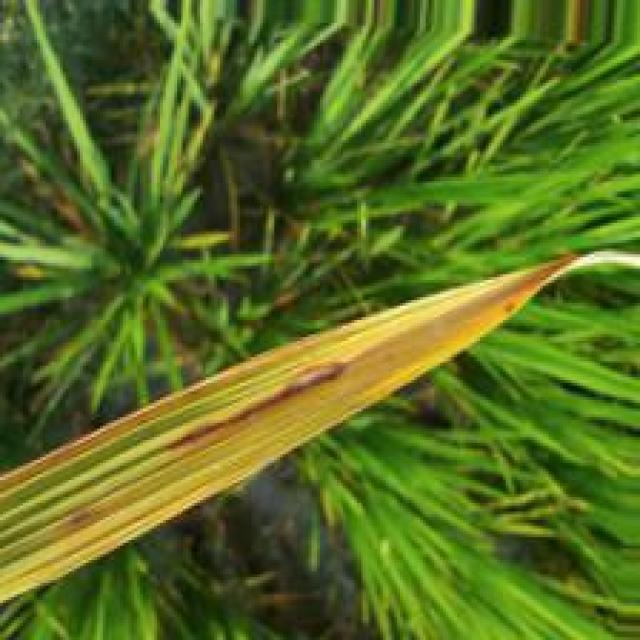Leaf_Blast: (35, 256, 585, 587)
